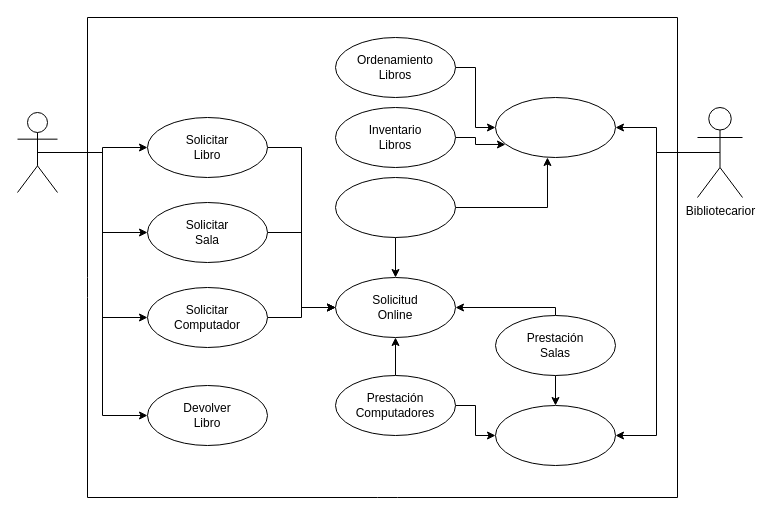
The diagram is 772 pixels wide and 516 high, and some of its shapes have lost their labels. The centre of each missing label's shape, as x and y in pixels:
Administración Infraestructura: (555,435)
Administrar Libros: (555,127)
Prestación Libros: (395,207)
Usuario: (37,152)
